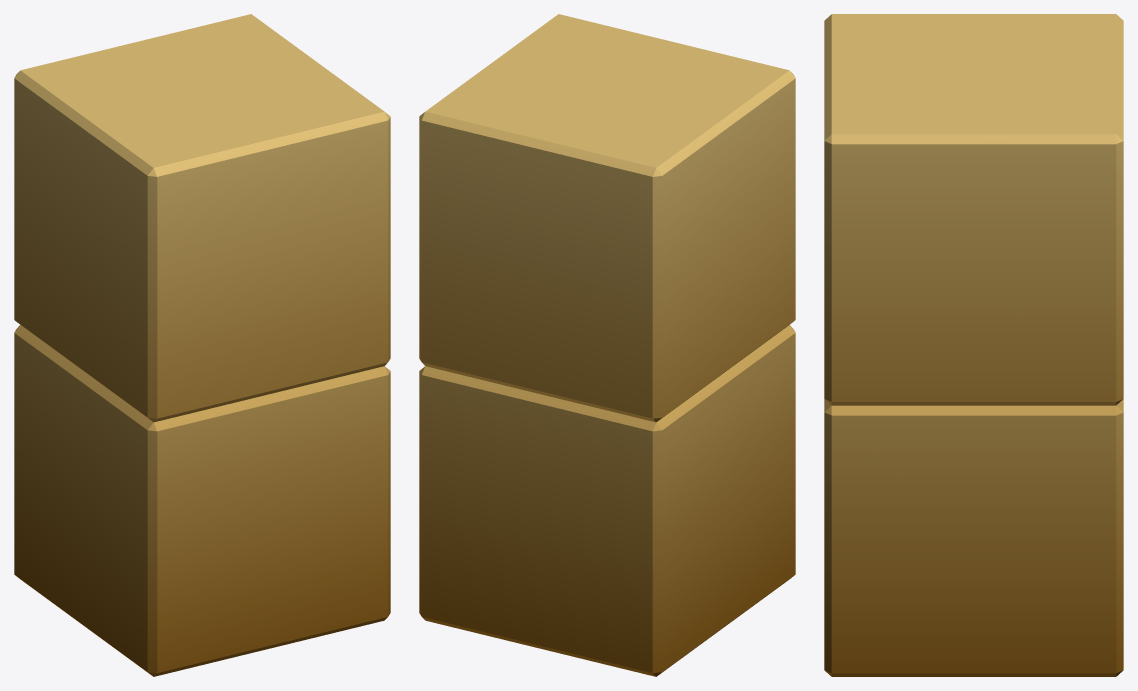
Rendered from Enviroment__Wall_Bricks_002.fbx.
The picture shows the model from 3 angles, left to right: view 1: azimuth 30°, elevation 25°; view 2: azimuth 150°, elevation 25°; view 3: azimuth 270°, elevation 25°; orthographic projection. The views are drawn at different scales.
Visible parts, largest first — view 1: Cube.034; view 2: Cube.034; view 3: Cube.034.
Part boxes in pixels (bbox=[...]): Cube.034: bbox=[14, 14, 390, 676]; Cube.034: bbox=[419, 14, 795, 676]; Cube.034: bbox=[824, 14, 1123, 676].
Bounding box in the file's own units: 20 × 40 × 20.
